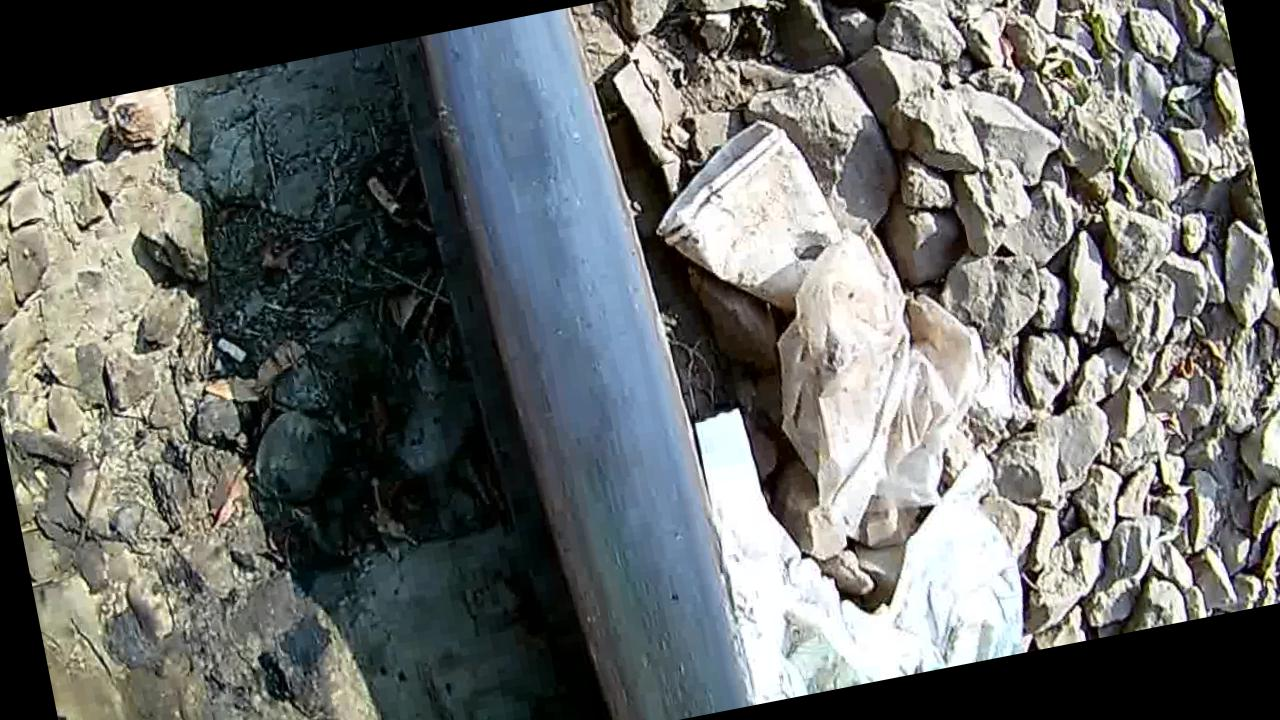bolt_missing: (432, 0, 751, 720)
